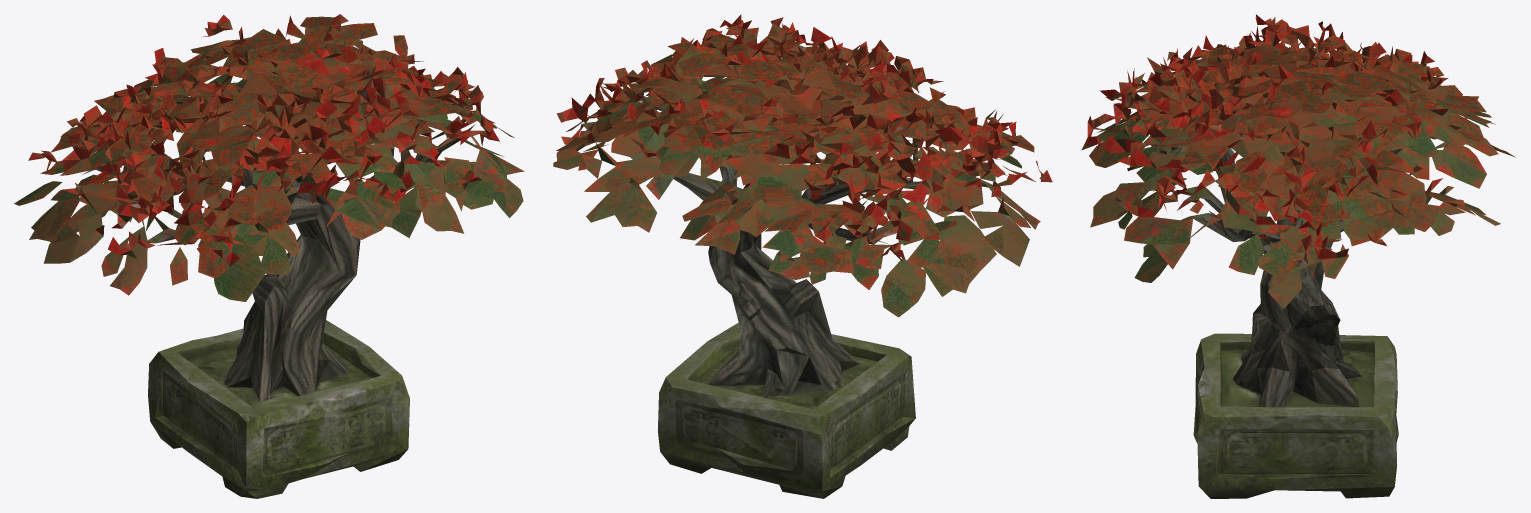
Rendered from flame_tree.glb.
The picture shows the model from 3 angles, left to right: view 1: azimuth 30°, elevation 25°; view 2: azimuth 150°, elevation 25°; view 3: azimuth 270°, elevation 25°; orthographic projection. The views are drawn at different scales.
Parts seen in each view (by area): view 1: flame_tree; view 2: flame_tree; view 3: flame_tree.
Boxes of the visible parts, x1=… form: flame_tree: x1=14, y1=14, x2=524, y2=498; flame_tree: x1=553, y1=14, x2=1052, y2=498; flame_tree: x1=1081, y1=14, x2=1515, y2=498.
Size of the model in its own units: 9.55 by 8 by 7.53.
Materials: 1 (1 with a texture image).
